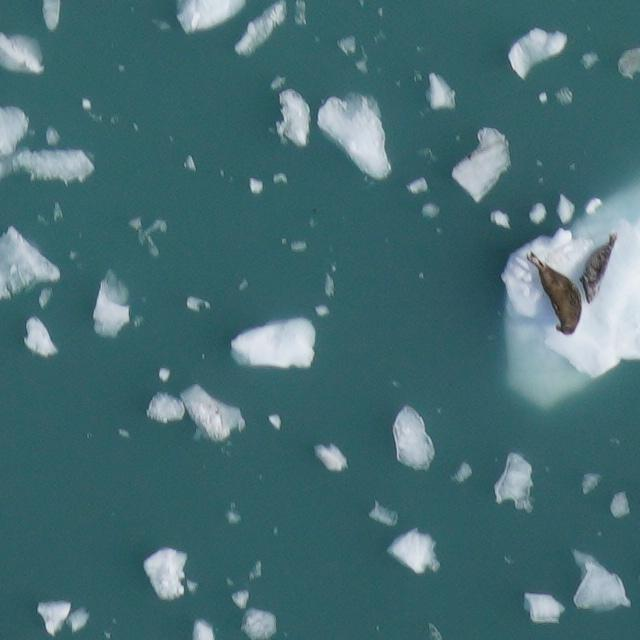seal: (527, 251, 580, 332), (579, 232, 617, 303)
